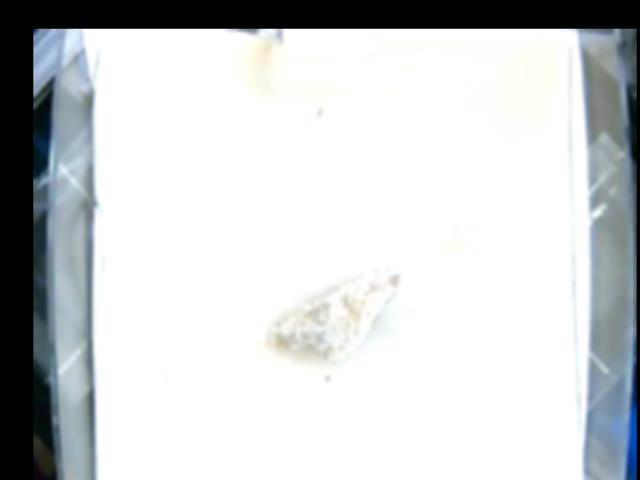Brisk: (283, 265, 400, 357)
